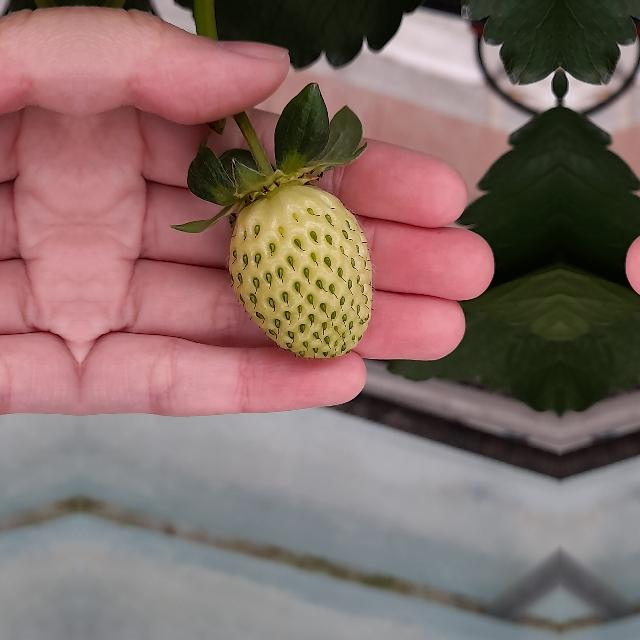Health_25: (228, 184, 372, 358)
